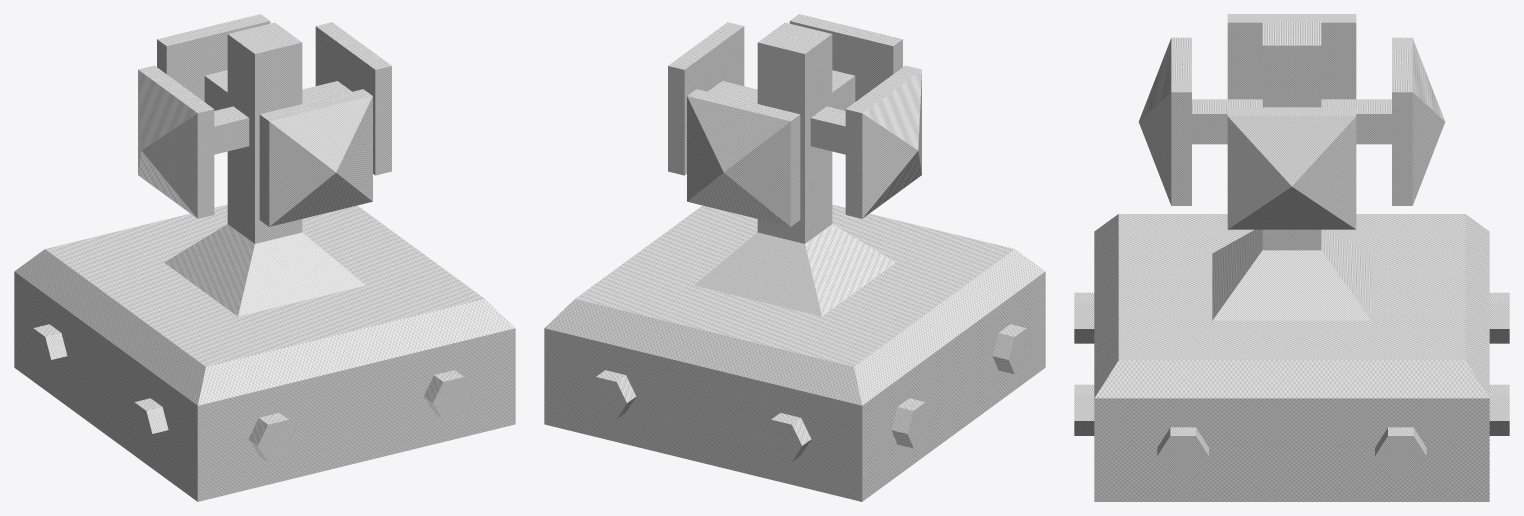
Rendered from Comms.dae.
The picture shows the model from 3 angles, left to right: view 1: azimuth 30°, elevation 25°; view 2: azimuth 150°, elevation 25°; view 3: azimuth 270°, elevation 25°; orthographic projection. The views are drawn at different scales.
Parts seen in each view (by area): view 1: Comms; view 2: Comms; view 3: Comms.
Boxes of the visible parts, x1=… form: Comms: x1=14, y1=14, x2=515, y2=501; Comms: x1=544, y1=14, x2=1045, y2=501; Comms: x1=1074, y1=14, x2=1509, y2=501.
Bounding box in the file's own units: 2 × 1.95 × 2.
